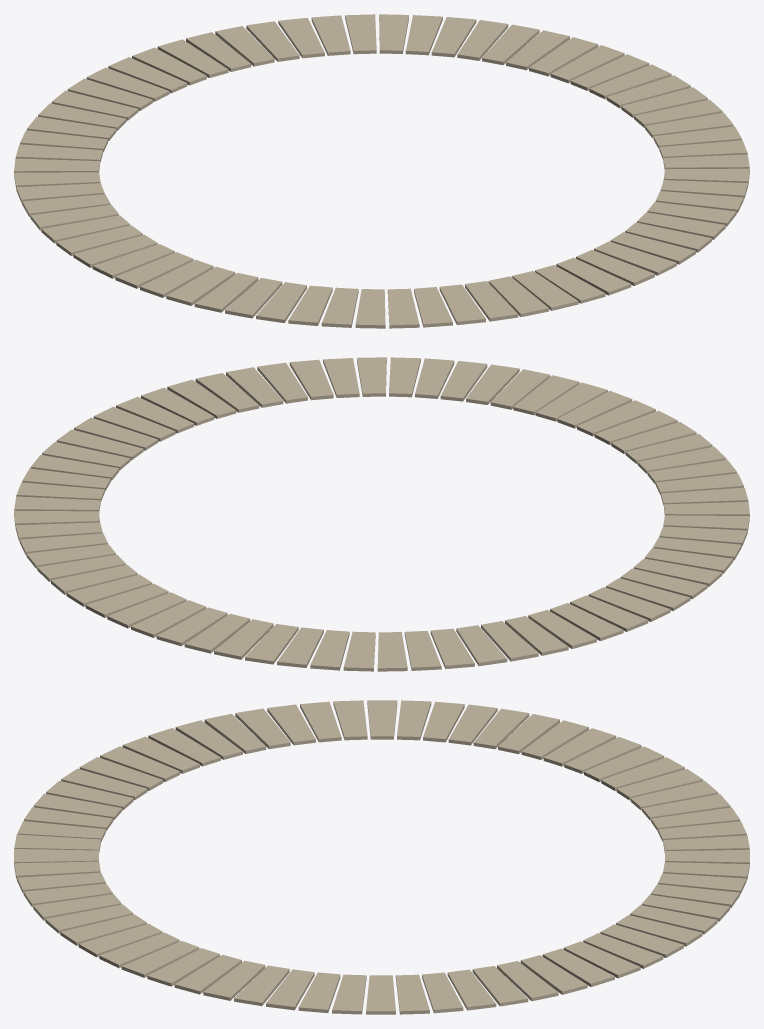
Rendered from room_round.fbx.
The picture shows the model from 3 angles, top to bottom: view 1: azimuth 30°, elevation 25°; view 2: azimuth 150°, elevation 25°; view 3: azimuth 270°, elevation 25°; orthographic projection.
Parts seen in each view (by area): view 1: Plane_round; view 2: Plane_round; view 3: Plane_round.
Part boxes in pixels (x1,y1,x2,y2): Plane_round: (14, 14, 749, 328); Plane_round: (14, 357, 749, 671); Plane_round: (14, 700, 749, 1014).
Size of the model in its own units: 1839 by 9.19 by 1839.
